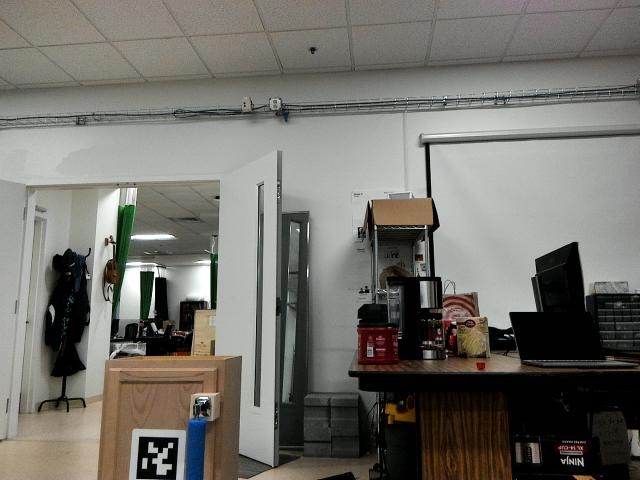noodle_handle: (175, 413, 215, 480)
